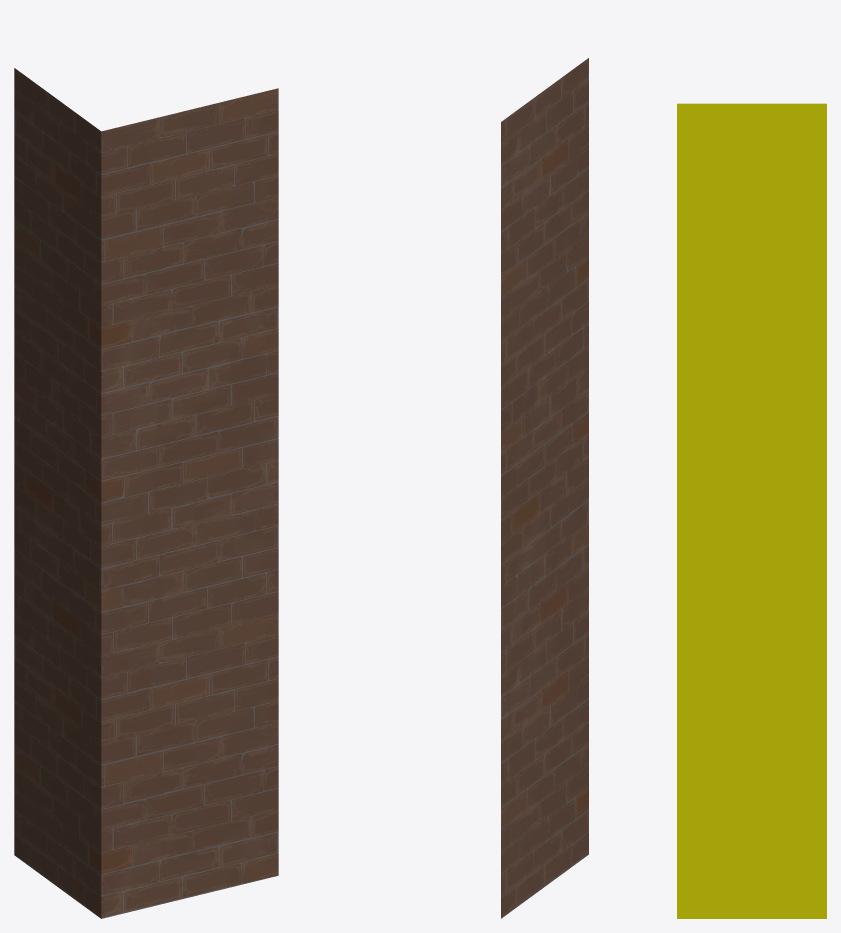
The model's file is brick-90angle-r.glb.
3 renders of one model, left to right at view 1: azimuth 30°, elevation 25°; view 2: azimuth 150°, elevation 25°; view 3: azimuth 270°, elevation 25°, orthographic. The views are drawn at different scales.
Visible parts, largest first — view 1: Brick_90Angle_R; view 2: Brick_90Angle_R; view 3: Brick_90Angle_R.
Part boxes in pixels (<box>): Brick_90Angle_R: <box>14,68,278,918</box>; Brick_90Angle_R: <box>501,58,588,918</box>; Brick_90Angle_R: <box>677,103,826,918</box>.
Size of the model in its own units: 0.7062 by 3 by 0.7.
2 materials, 1 textured.
